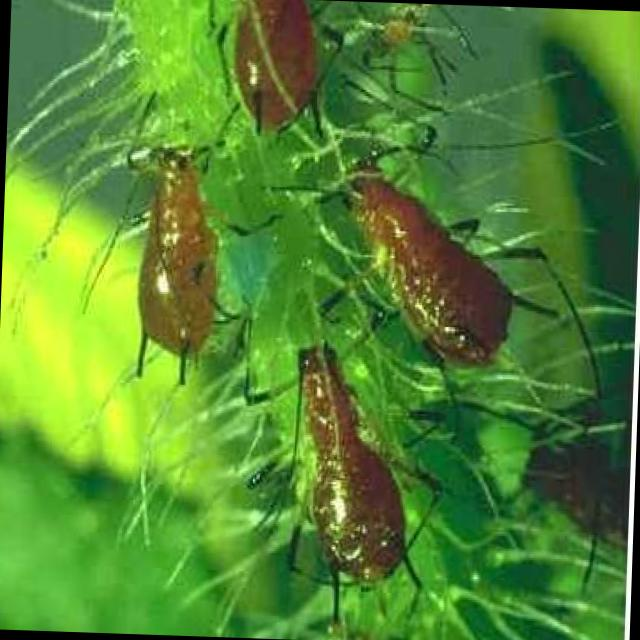Aphids: (293, 119, 562, 414), (87, 80, 312, 368), (236, 304, 438, 620)
